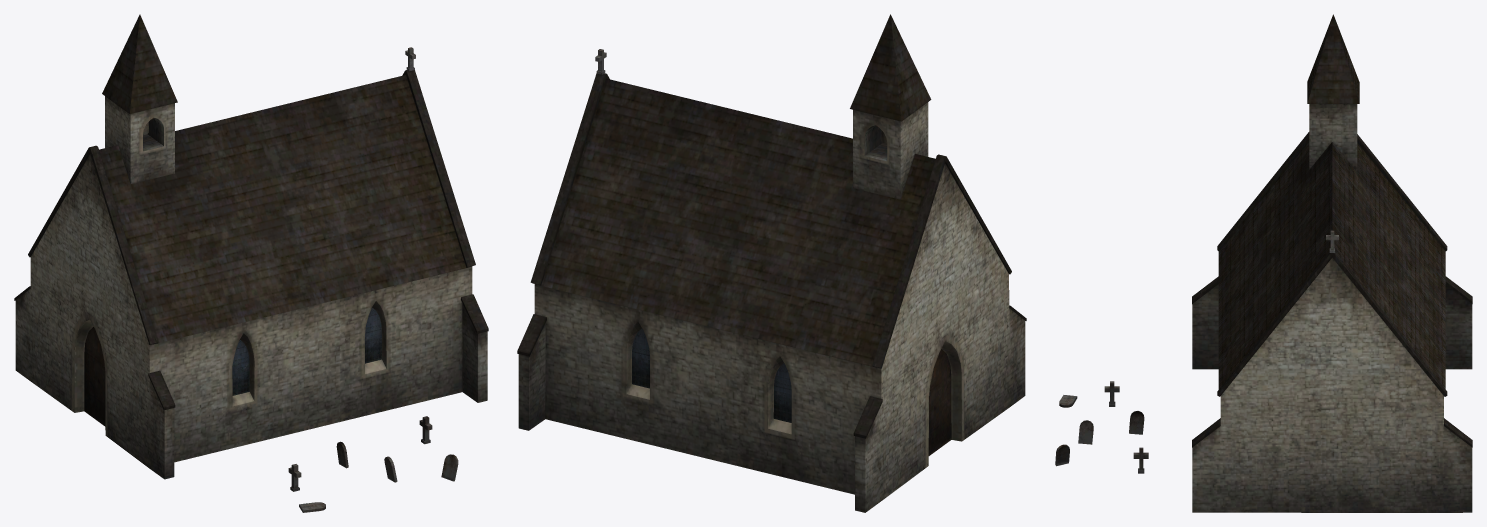
The model's file is chapel_obj.fbx.
The picture shows the model from 3 angles, left to right: view 1: azimuth 30°, elevation 25°; view 2: azimuth 150°, elevation 25°; view 3: azimuth 270°, elevation 25°; orthographic projection. The views are drawn at different scales.
Visible parts, largest first — view 1: Chapel; view 2: Chapel; view 3: Chapel.
Boxes of the visible parts, x1,y1,x2,y2 form: Chapel: [14, 14, 488, 512]; Chapel: [517, 14, 1026, 512]; Chapel: [1055, 14, 1472, 512].
Bounding box in the file's own units: 1157 × 1357 × 1367.
